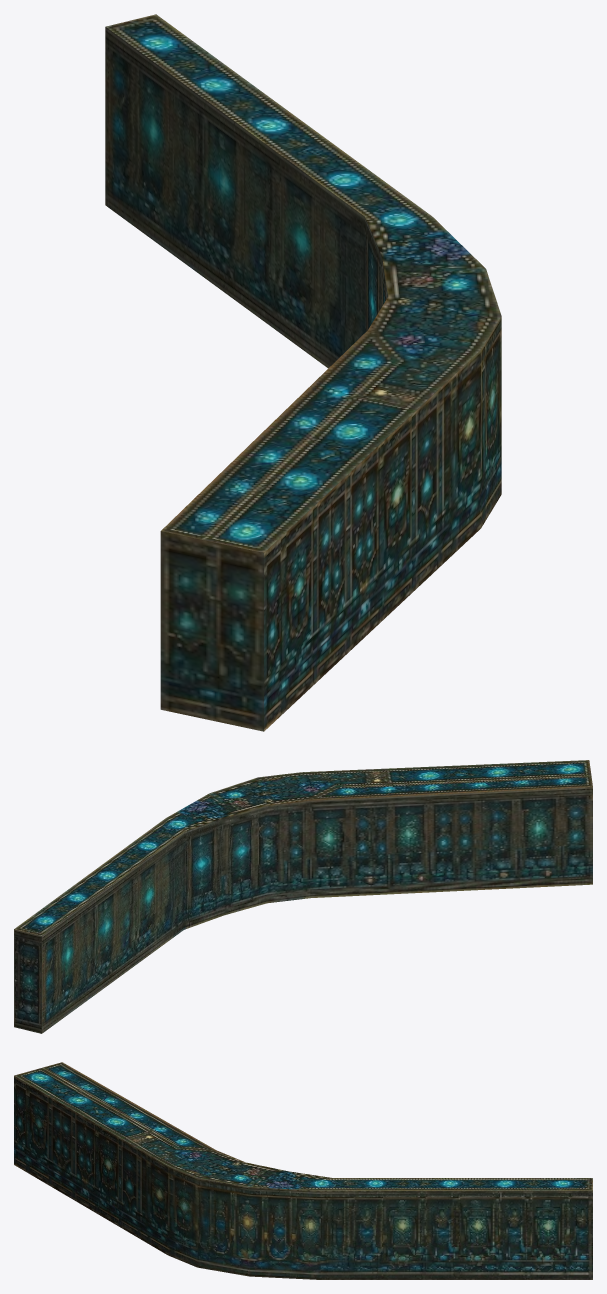
Rendered from ramp_pale_down_right_lvl_2.glb.
The picture shows the model from 3 angles, top to bottom: view 1: azimuth 30°, elevation 25°; view 2: azimuth 150°, elevation 25°; view 3: azimuth 270°, elevation 25°; orthographic projection. The views are drawn at different scales.
Visible parts, largest first — view 1: Mesh_0.003; view 2: Mesh_0.003; view 3: Mesh_0.003.
Boxes of the visible parts, bbox=[...] form: Mesh_0.003: bbox=[105, 14, 501, 731]; Mesh_0.003: bbox=[14, 760, 592, 1033]; Mesh_0.003: bbox=[14, 1062, 592, 1279].
Bounding box in the file's own units: 0.1284 × 0.0417 × 0.2447.
1 material, 1 textured.
